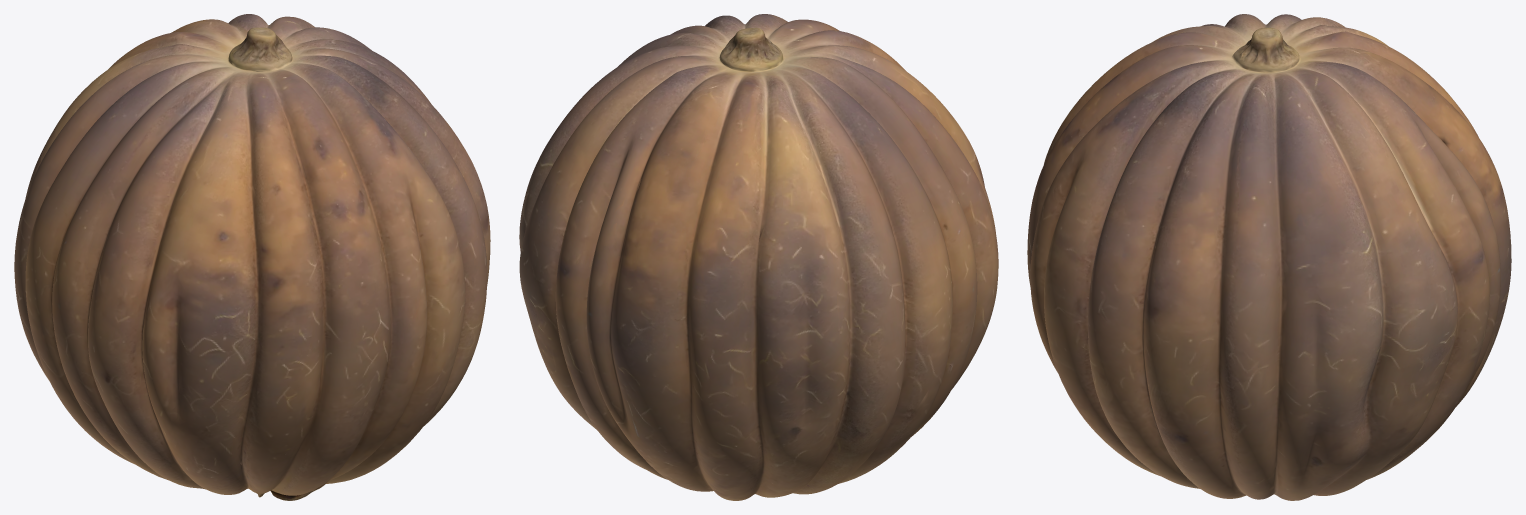
File: luohanguo.glb
3 renders of one model, left to right at view 1: azimuth 30°, elevation 25°; view 2: azimuth 150°, elevation 25°; view 3: azimuth 270°, elevation 25°, orthographic.
Parts seen in each view (by area): view 1: node_0; view 2: node_0; view 3: node_0.
Boxes of the visible parts, box(x1,y1,x2,y2) form: node_0: box(14, 14, 490, 500); node_0: box(519, 14, 998, 500); node_0: box(1027, 14, 1511, 500).
Size of the model in its own units: 1.11 by 1.14 by 1.13.
Materials: 1 (1 with a texture image).
